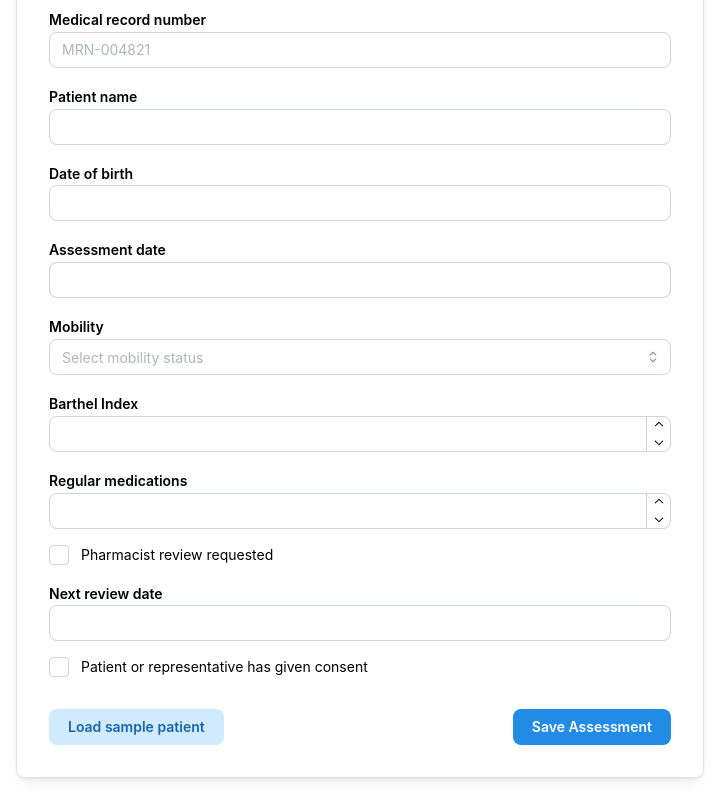
Test: AssessmentForm integration tests › does not silently clamp clinical scores and displays error on 105
The image size is (721, 810).
(page scrolled)
Click the button "Load sample patient": (136, 728) [49, 710, 224, 746]
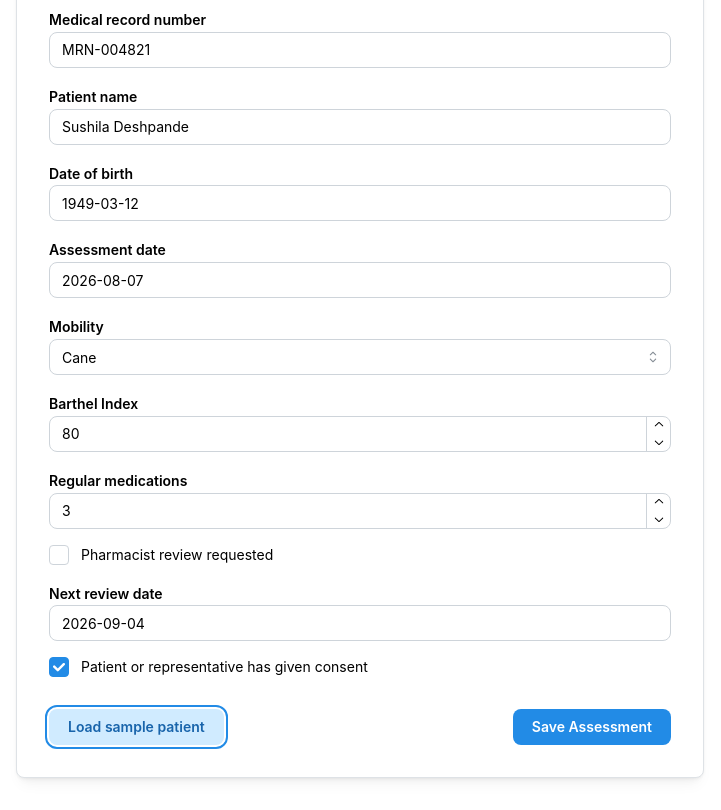
Replace the text in the field labelled "Barthel Index" with "105": (360, 434) [49, 416, 671, 452]
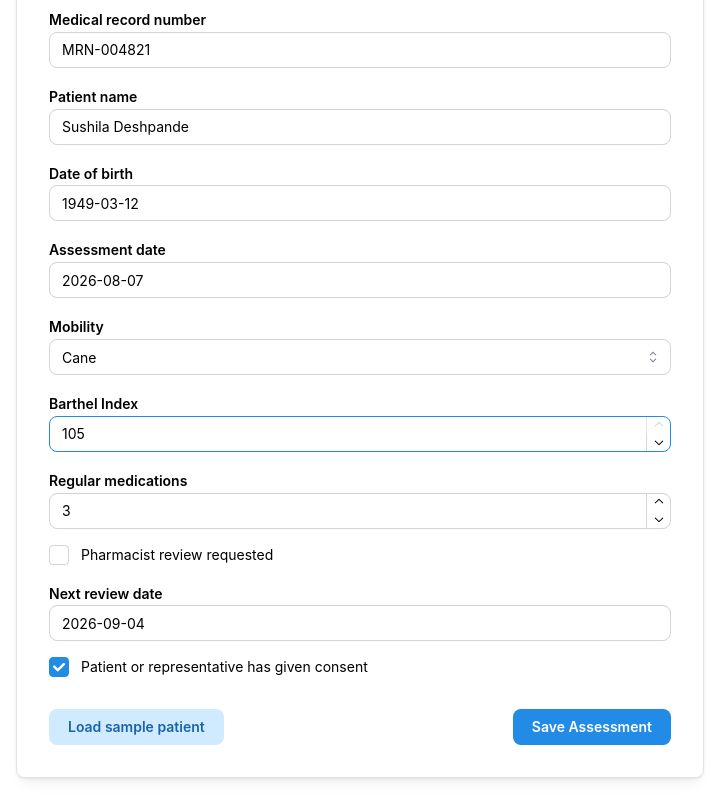
Press Tab
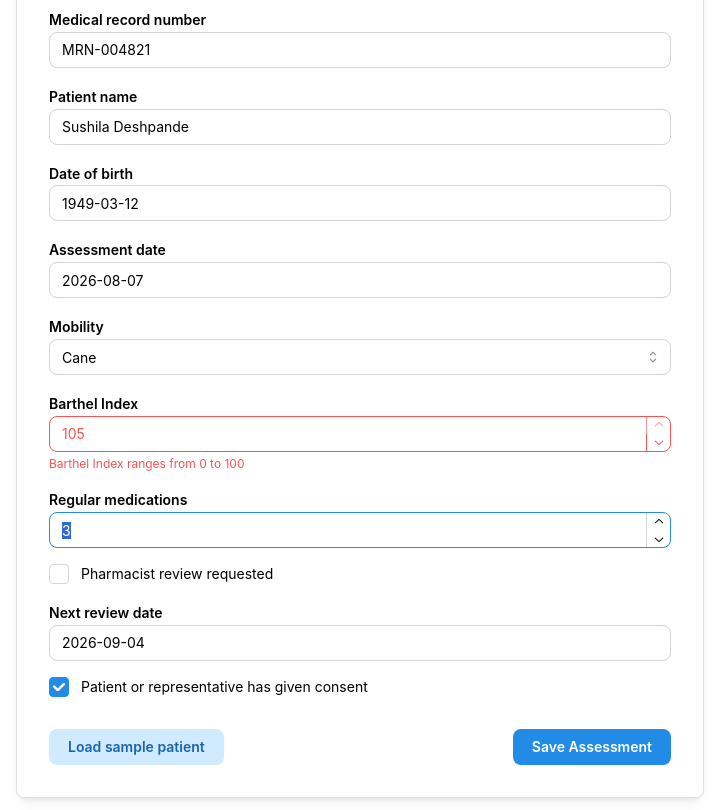
Expected: the text "Barthel Index ranges from 0 to 100" is shown, [49, 456, 244, 471]
